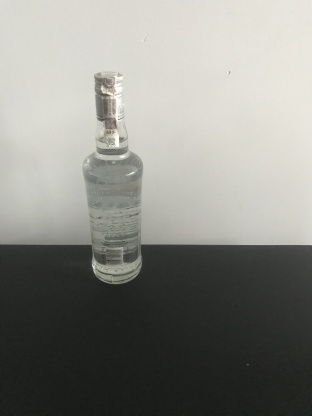nakretka: (92, 70, 126, 122)
